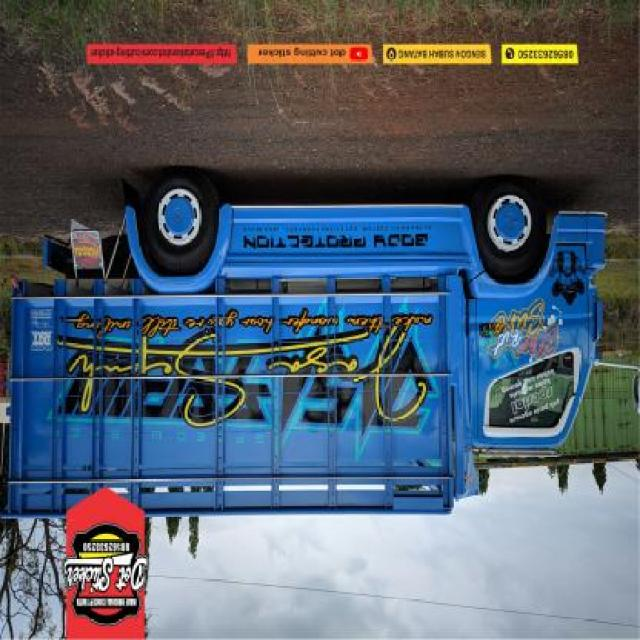truck: (11, 182, 608, 517)
